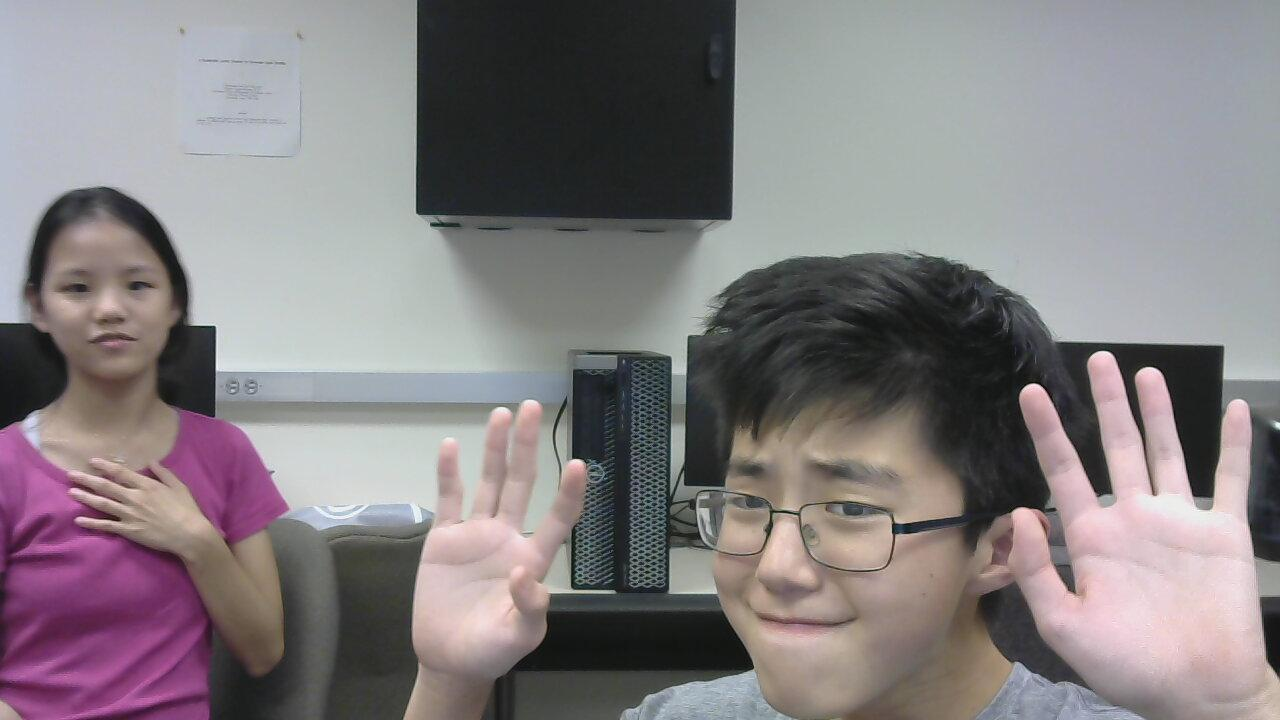hands: (1001, 340, 1279, 677), (412, 386, 595, 686), (57, 442, 216, 555)
